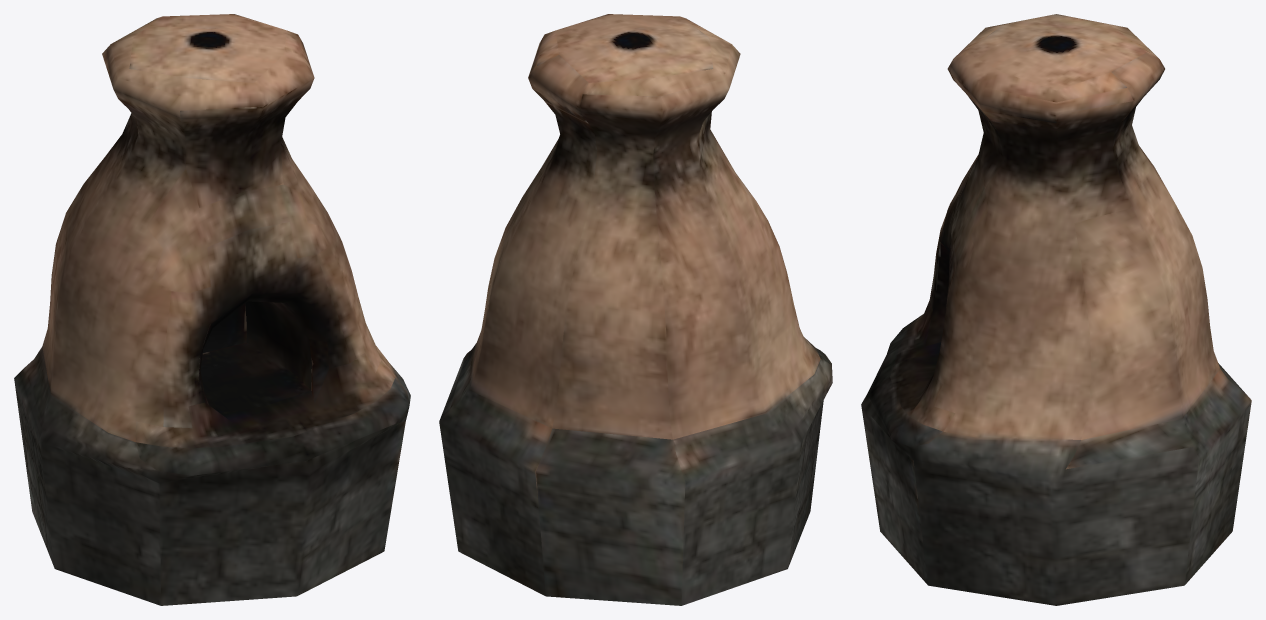
The model's file is furnace_textured.glb.
The picture shows the model from 3 angles, left to right: view 1: azimuth 30°, elevation 25°; view 2: azimuth 150°, elevation 25°; view 3: azimuth 270°, elevation 25°; orthographic projection.
Visible parts, largest first — view 1: Plane.002; view 2: Plane.002; view 3: Plane.002.
Boxes of the visible parts, x1=… form: Plane.002: x1=14, y1=14, x2=410, y2=605; Plane.002: x1=439, y1=14, x2=832, y2=605; Plane.002: x1=861, y1=14, x2=1251, y2=605.
Size of the model in its own units: 0.7001 by 0.9768 by 0.7056.
Materials: 1 (1 with a texture image).
